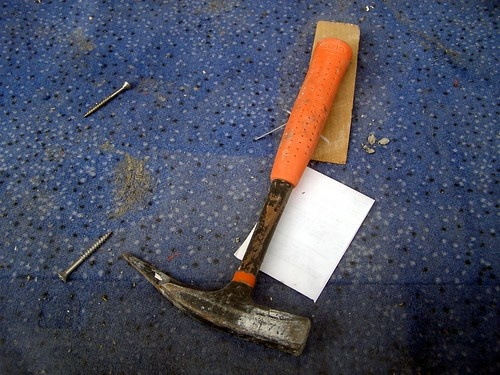hammer: (129, 34, 345, 360)
